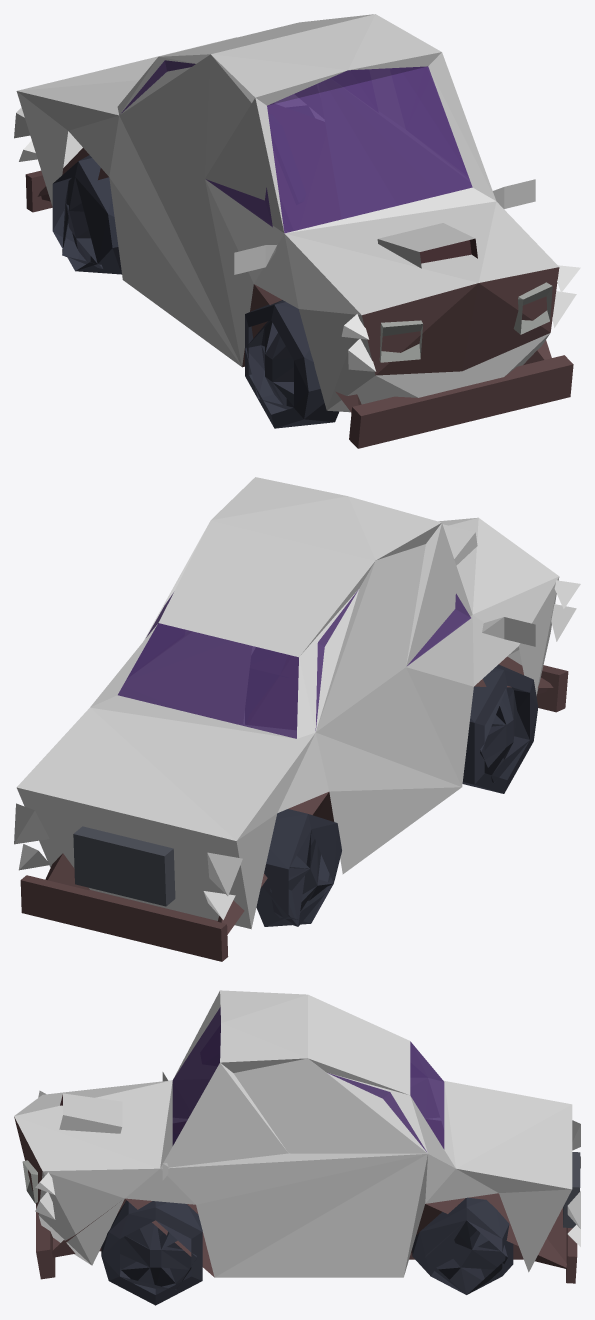
Rendered from coche.glb.
3 renders of one model, top to bottom at view 1: azimuth 30°, elevation 25°; view 2: azimuth 150°, elevation 25°; view 3: azimuth 270°, elevation 25°, orthographic. The views are drawn at different scales.
Parts seen in each view (by area): view 1: Cube, Cube.007, Cylinder, Cylinder.002, Cube.012, Cylinder.001, Cube.003, Cube.011, Cube.004, Cube.010; view 2: Cube, Cube.010, Cylinder.002, Cylinder, Cube.009, Cube.005, Cube.003, Cube.007, Cube.006, Cube.012; view 3: Cube, Cylinder.003, Cylinder.002, Cube.012, Cube.007, Cube.009, Cube.005, Cube.010, Cylinder.001.
Part boxes in pixels (bbox=[...]): Cube: bbox=[16, 14, 559, 412]; Cube.007: bbox=[349, 355, 573, 448]; Cylinder: bbox=[245, 300, 338, 428]; Cylinder.002: bbox=[52, 155, 121, 274]; Cube.012: bbox=[377, 223, 477, 268]; Cylinder.001: bbox=[379, 282, 552, 362]; Cube.003: bbox=[234, 179, 535, 274]; Cube.011: bbox=[348, 291, 576, 371]; Cube.004: bbox=[341, 265, 580, 339]; Cube.010: bbox=[25, 170, 52, 212]; Cube: bbox=[16, 477, 559, 934]; Cube.010: bbox=[20, 875, 228, 961]; Cylinder.002: bbox=[256, 809, 341, 926]; Cylinder: bbox=[462, 664, 538, 793]; Cube.009: bbox=[73, 826, 175, 906]; Cube.005: bbox=[14, 803, 242, 895]; Cube.003: bbox=[482, 617, 535, 646]; Cube.007: bbox=[536, 665, 568, 712]; Cube.006: bbox=[18, 844, 235, 919]; Cube.012: bbox=[442, 524, 477, 565]; Cube: bbox=[14, 990, 572, 1277]; Cylinder.003: bbox=[101, 1200, 202, 1305]; Cylinder.002: bbox=[412, 1197, 513, 1294]; Cube.012: bbox=[59, 1093, 122, 1133]; Cube.007: bbox=[36, 1205, 55, 1279]; Cube.009: bbox=[563, 1152, 580, 1227]; Cube.005: bbox=[567, 1120, 580, 1228]; Cube.010: bbox=[566, 1228, 577, 1283]; Cylinder.001: bbox=[22, 1160, 37, 1203].
Bounding box in the file's own units: 2.74 × 2.61 × 5.63.
2 materials, 2 textured.
